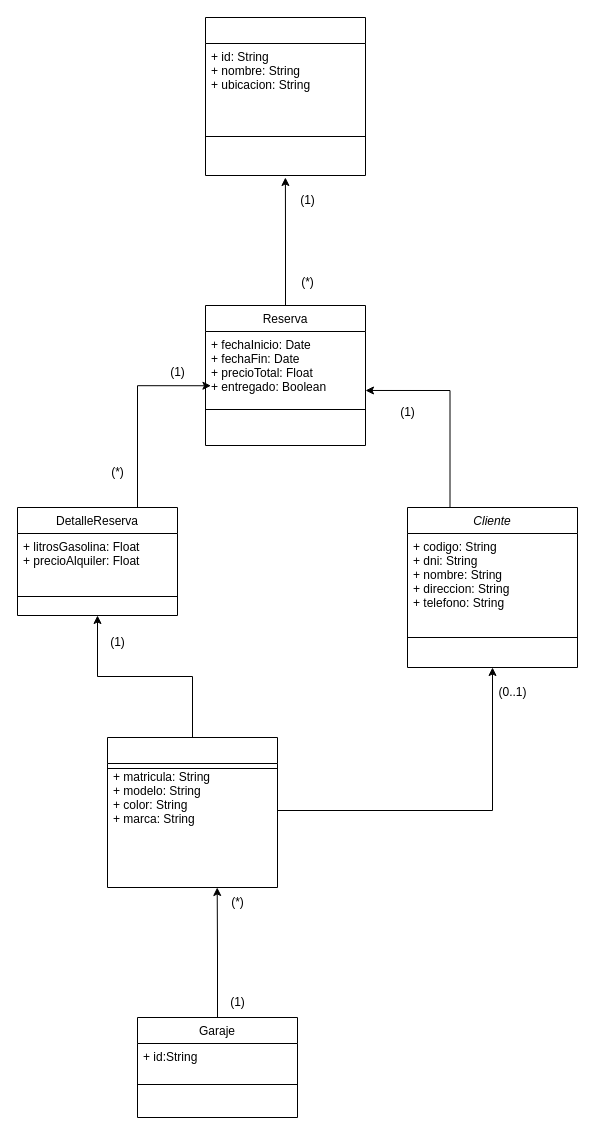
The diagram is 595 pixels wide and 1135 high, and some of its shapes have lost their labels. The box of each missing label's shape, as (x1, y1, x2, y2) in pixels:
Agencia: (204, 16, 366, 176)
Coche: (106, 736, 278, 888)
